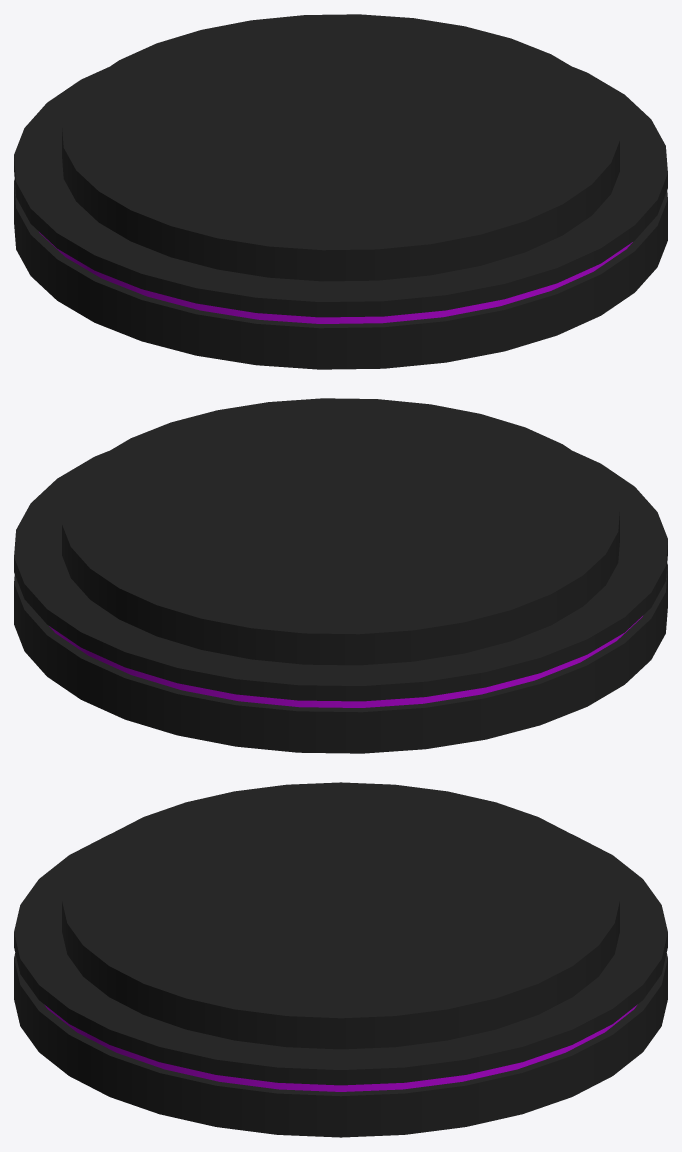
File: stage.glb
3 renders of one model, top to bottom at view 1: azimuth 30°, elevation 25°; view 2: azimuth 150°, elevation 25°; view 3: azimuth 270°, elevation 25°, orthographic.
Parts seen in each view (by area): view 1: Stage; view 2: Stage; view 3: Stage.
Part boxes in pixels (x1,y1,x2,y2): Stage: [14, 14, 667, 369]; Stage: [14, 398, 667, 753]; Stage: [14, 782, 667, 1137].
Bounding box in the file's own units: 3.65 × 0.6095 × 3.65.
